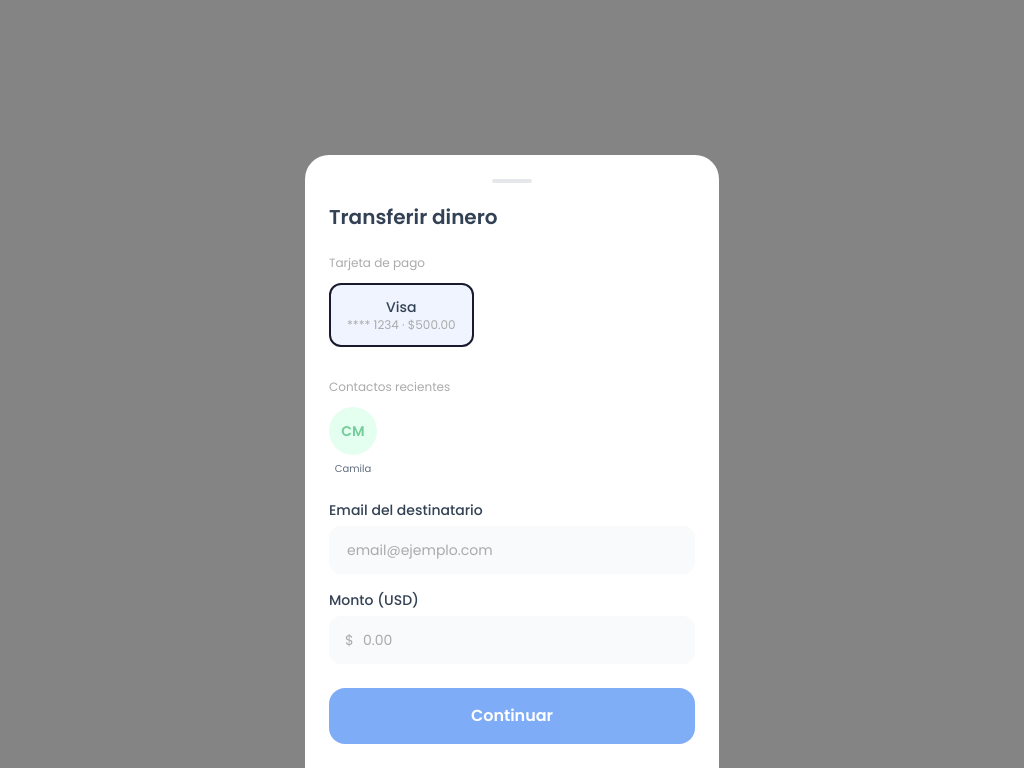
TransferModal › advances to confirm step with transfer summary
Click the text "Camila": x=353, y=468 [335, 461, 371, 476]
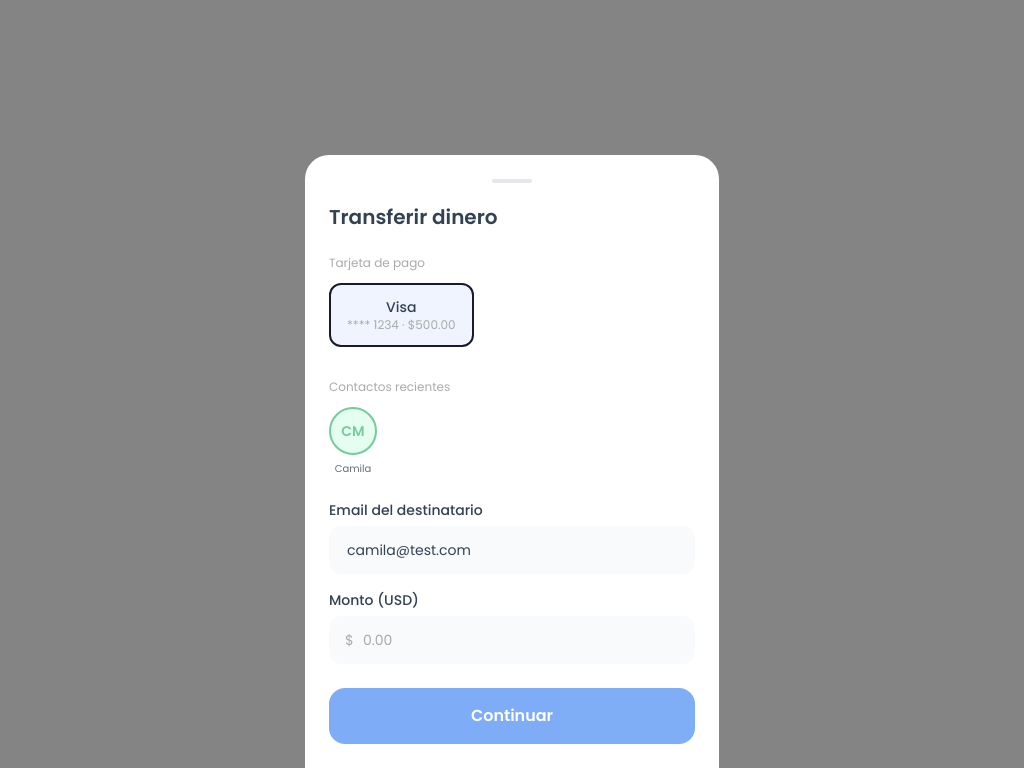
In the number field with placeholder "0.00": x=512, y=640 [329, 616, 695, 664], type "50"
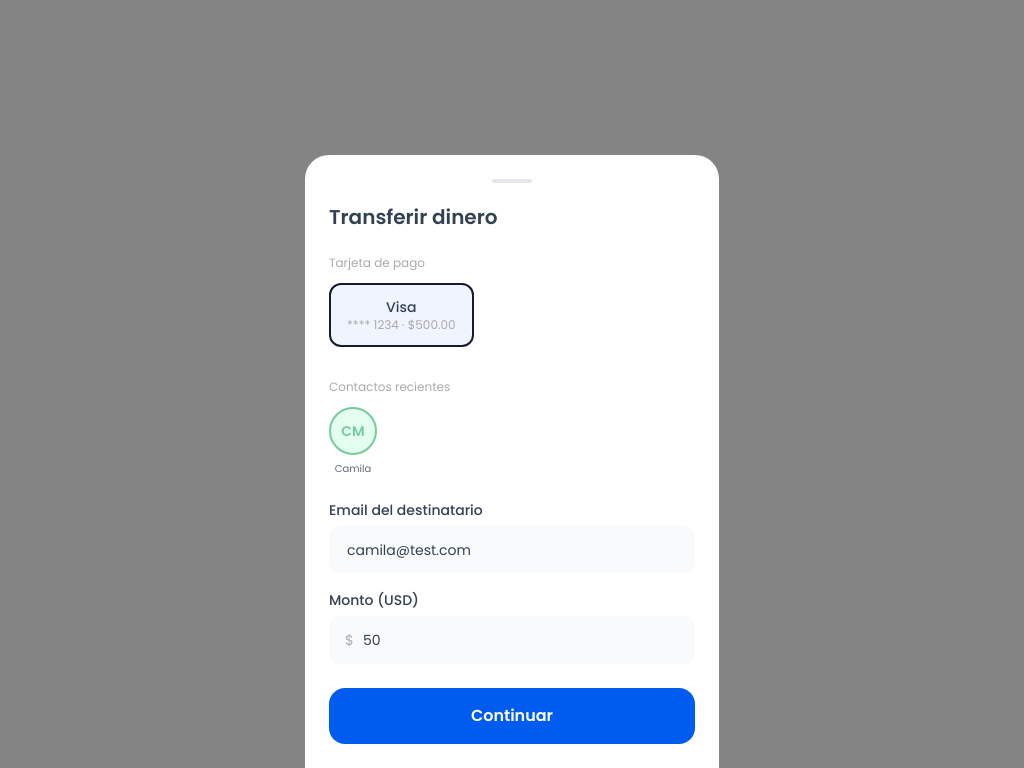
Click the button "Continuar": x=512, y=716 [329, 688, 695, 744]
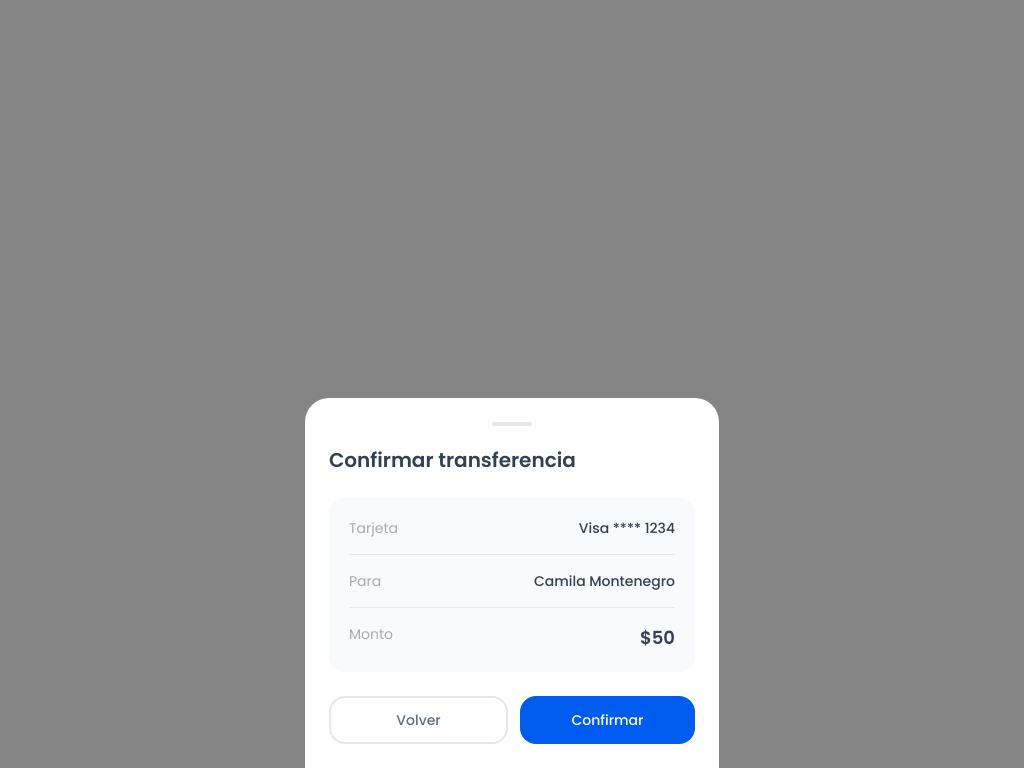
Check: the text "$50" is shown, box [640, 624, 675, 652]
Check: the heading "Confirmar transferencia" is shown, box [329, 446, 576, 474]
Check: the text "Camila Montenegro" is shown, box [534, 571, 675, 591]
